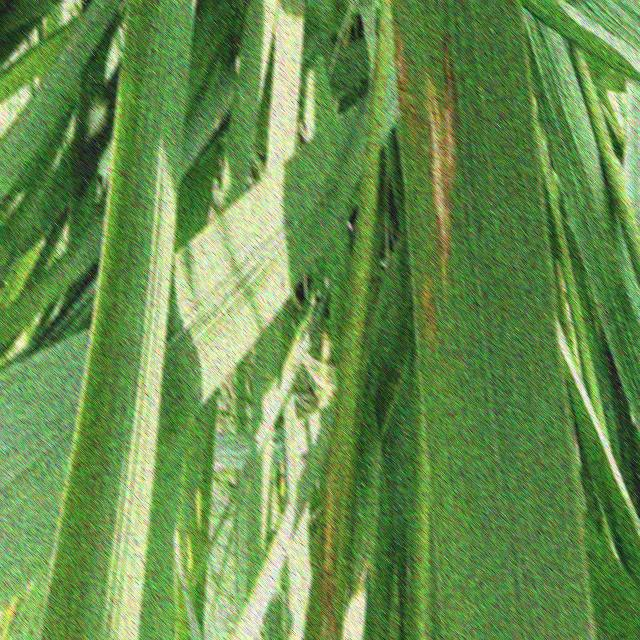LEAF BLAST: (424, 29, 457, 284), (394, 22, 406, 104), (408, 94, 421, 152)
